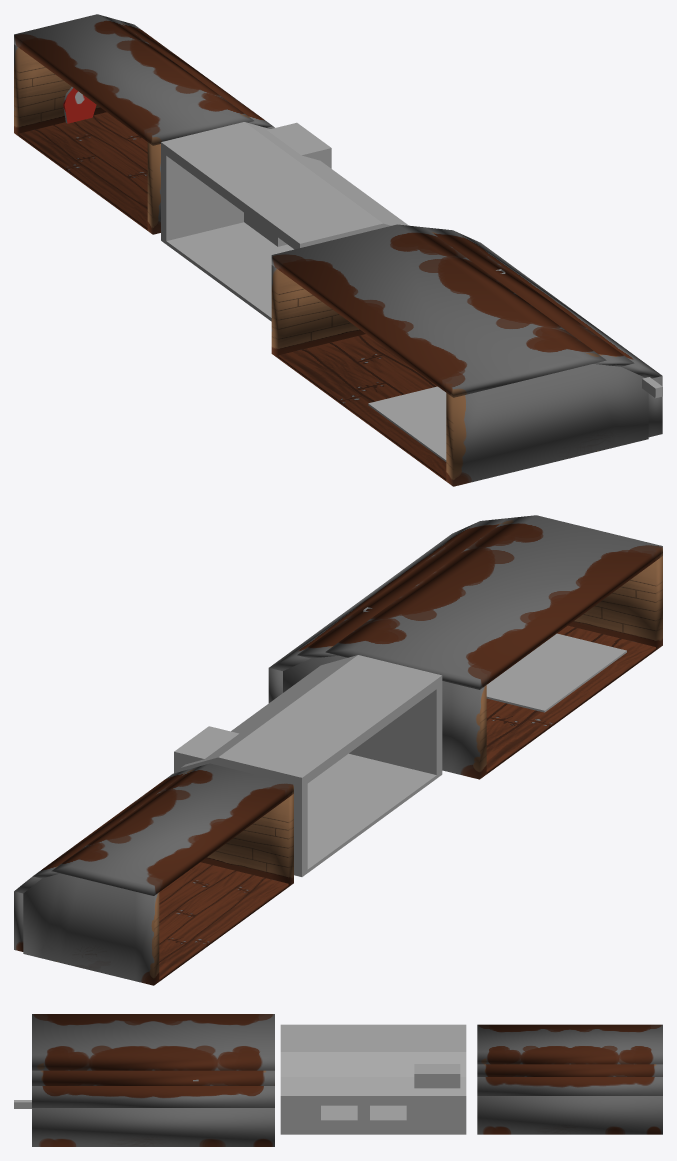
The model's file is Playground_Piece_Kitchen_Updated.fbx.
The picture shows the model from 3 angles, top to bottom: view 1: azimuth 30°, elevation 25°; view 2: azimuth 150°, elevation 25°; view 3: azimuth 270°, elevation 25°; orthographic projection. The views are drawn at different scales.
Parts seen in each view (by area): view 1: polySurface1, polySurface16, polySurface3, polySurface2, polySurface17, polySurface7, polySurface8, pCube49, polySurface4, polySurface15, polySurface22; view 2: polySurface1, polySurface16, polySurface3, polySurface7, polySurface17, pCube49, polySurface2, polySurface9, polySurface4, polySurface8, polySurface15; view 3: polySurface1, polySurface16, polySurface3, polySurface5, polySurface6, polySurface15, polySurface7, polySurface4.
Part boxes in pixels (x1,y1,x2,y2): polySurface1: [271, 224, 662, 486]; polySurface16: [14, 14, 274, 234]; polySurface3: [161, 122, 395, 249]; polySurface2: [278, 334, 446, 481]; polySurface17: [19, 112, 147, 230]; polySurface7: [166, 222, 293, 321]; polySurface8: [161, 152, 243, 243]; pCube49: [368, 386, 446, 461]; polySurface4: [244, 122, 331, 246]; polySurface15: [263, 127, 408, 225]; polySurface22: [63, 87, 96, 123]; polySurface1: [268, 515, 662, 779]; polySurface16: [14, 763, 293, 985]; polySurface3: [200, 655, 442, 787]; polySurface7: [307, 753, 436, 872]; polySurface17: [159, 862, 288, 981]; pCube49: [486, 633, 626, 712]; polySurface2: [486, 625, 655, 773]; polySurface9: [349, 685, 442, 778]; polySurface4: [174, 726, 238, 772]; polySurface8: [294, 784, 307, 876]; polySurface15: [181, 660, 338, 769]; polySurface1: [32, 1014, 274, 1146]; polySurface16: [477, 1024, 662, 1134]; polySurface3: [280, 1024, 466, 1064]; polySurface5: [280, 1096, 466, 1134]; polySurface6: [280, 1077, 466, 1095]; polySurface15: [280, 1064, 466, 1076]; polySurface7: [321, 1105, 406, 1120]; polySurface4: [414, 1064, 460, 1088].
Size of the model in its own units: 22.61 by 11.1 by 90.87.
